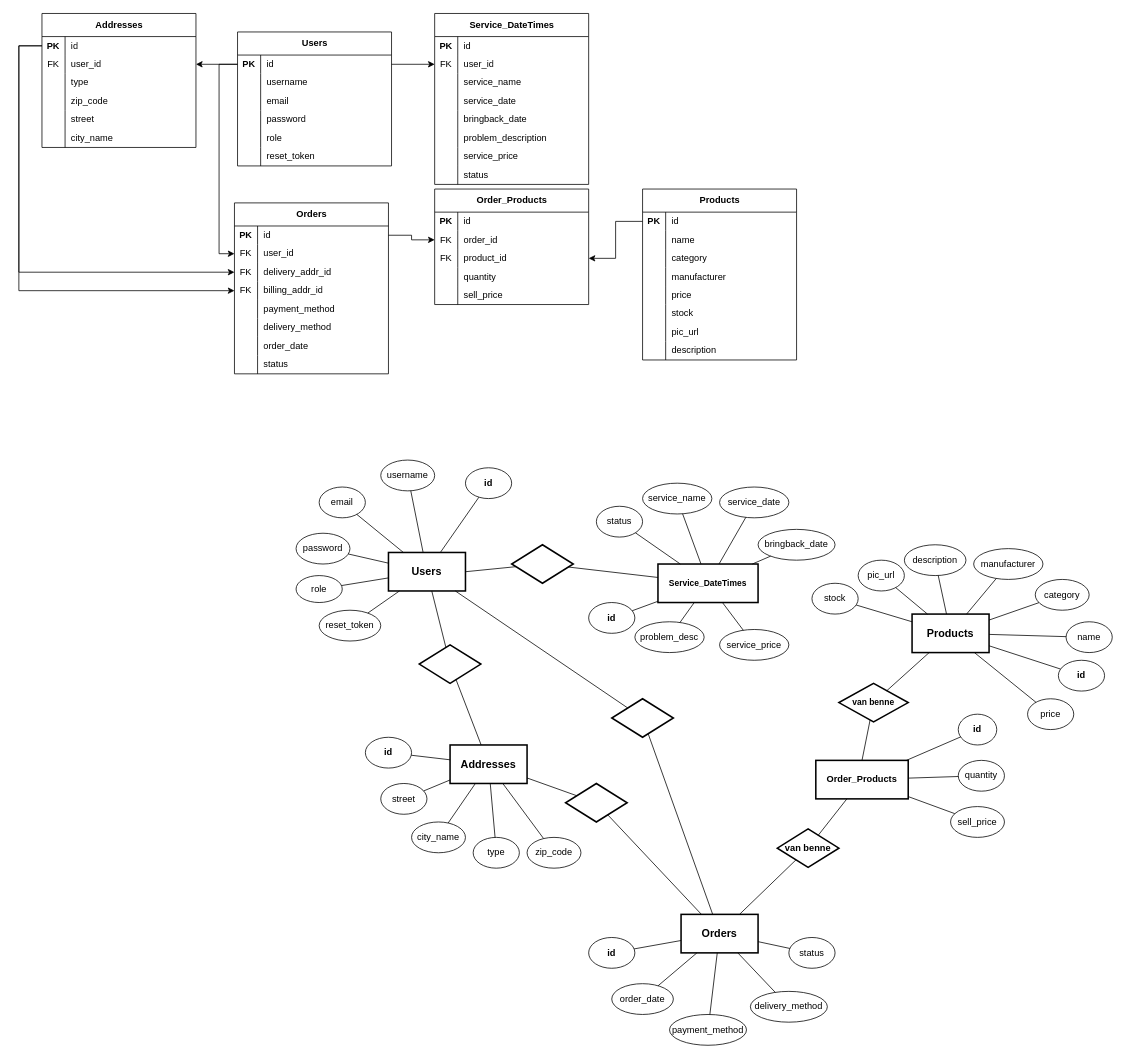
Some shapes in this 1126 by 1059 pixel diagram are drawn without their labels. Here are the shapes that lost their labels. From the top down, the centre of each, then its label:
(x=542, y=564): foglal
(x=449, y=664): van
(x=642, y=718): beküld
(x=596, y=802): kell
